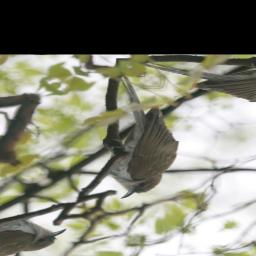Cuckoo: (17, 72, 234, 203)
